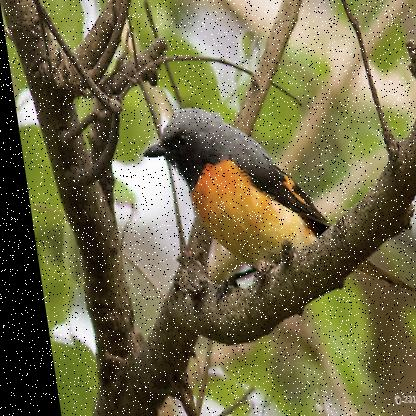Burung: (132, 106, 406, 292)
